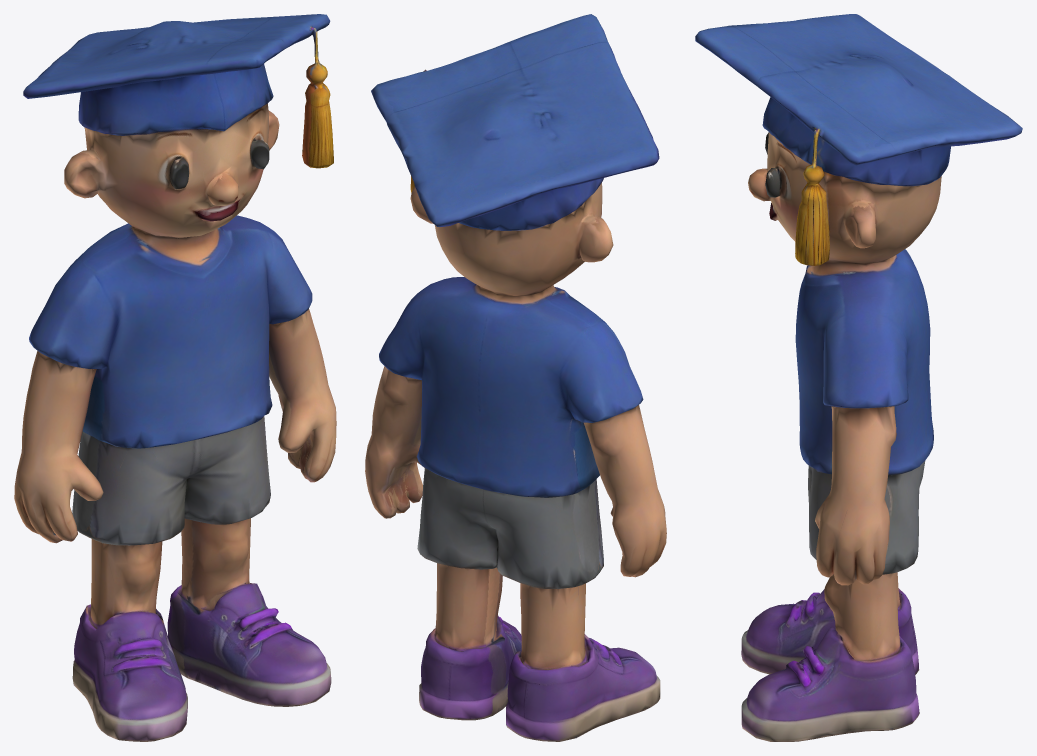
Rendered from graduate_kid.glb.
3 renders of one model, left to right at view 1: azimuth 30°, elevation 25°; view 2: azimuth 150°, elevation 25°; view 3: azimuth 270°, elevation 25°, orthographic. The views are drawn at different scales.
Visible parts, largest first — view 1: Object_4; view 2: Object_4; view 3: Object_4.
Boxes of the visible parts, box(x1,y1,x2,y2) form: Object_4: box(14, 14, 336, 741); Object_4: box(365, 14, 666, 741); Object_4: box(695, 14, 1022, 741).
Size of the model in its own units: 0.9599 by 2 by 0.9013.
Materials: 1 (1 with a texture image).
